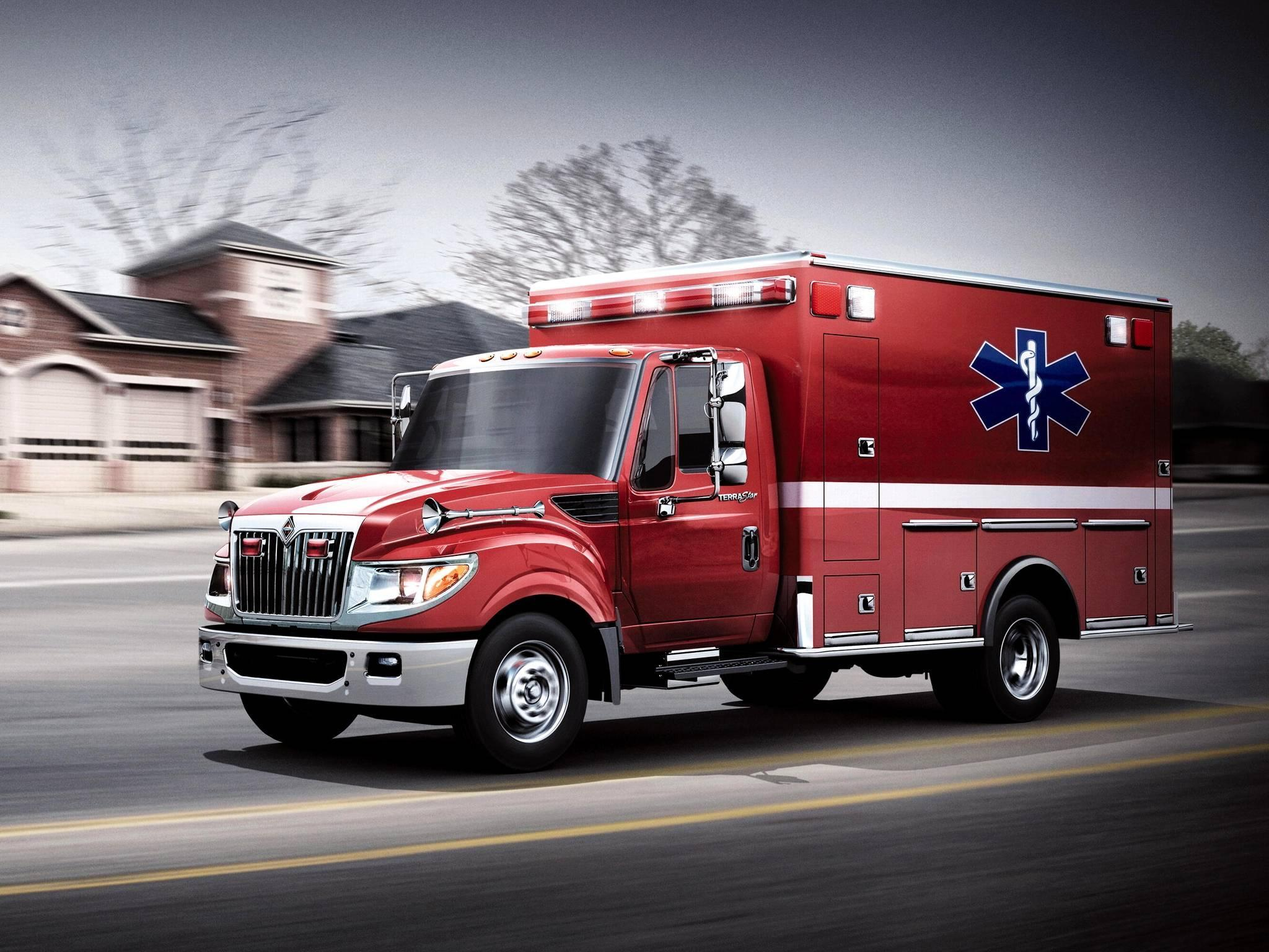Ambulance: (944, 284, 1112, 484)
